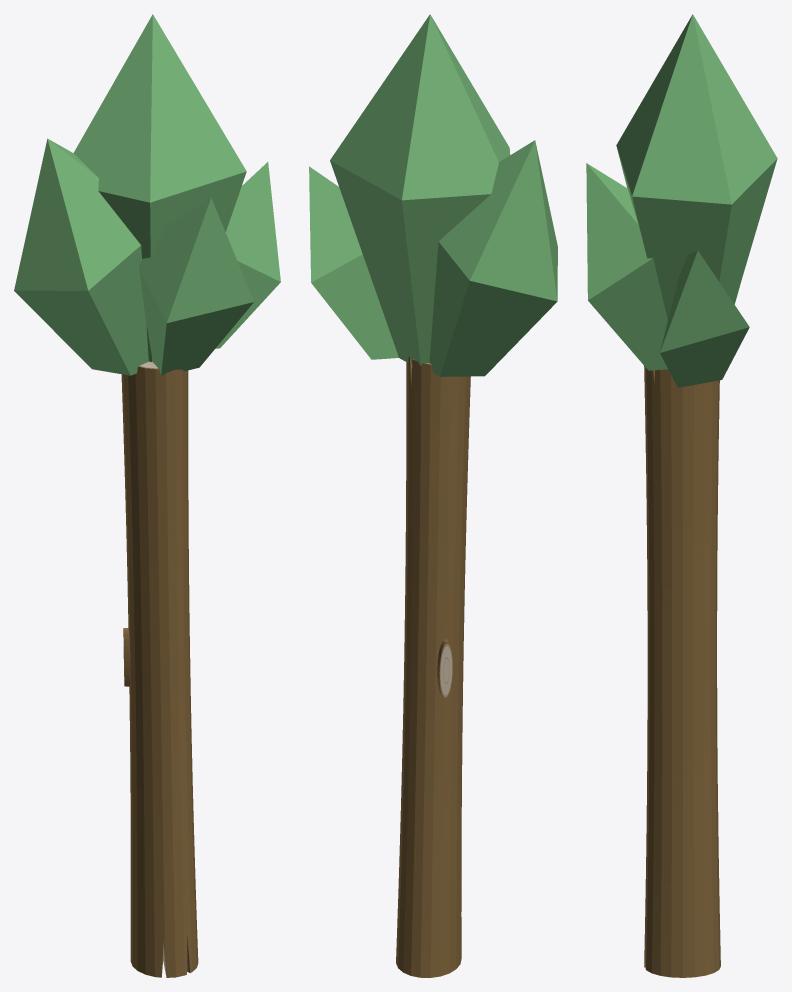
The model's file is tree.glb.
3 views of the same model, side by side, from view 1: azimuth 30°, elevation 25°; view 2: azimuth 150°, elevation 25°; view 3: azimuth 270°, elevation 25° (orthographic).
Parts seen in each view (by area): view 1: Mesh_Mesh_head_geo.001_lambert2SG.001; view 2: Mesh_Mesh_head_geo.001_lambert2SG.001; view 3: Mesh_Mesh_head_geo.001_lambert2SG.001.
Boxes of the visible parts, x1,y1,x2,y2 form: Mesh_Mesh_head_geo.001_lambert2SG.001: (14, 14, 280, 977); Mesh_Mesh_head_geo.001_lambert2SG.001: (309, 14, 557, 977); Mesh_Mesh_head_geo.001_lambert2SG.001: (586, 14, 777, 977).
Bounding box in the file's own units: 0.0152 × 0.0549 × 0.01.
